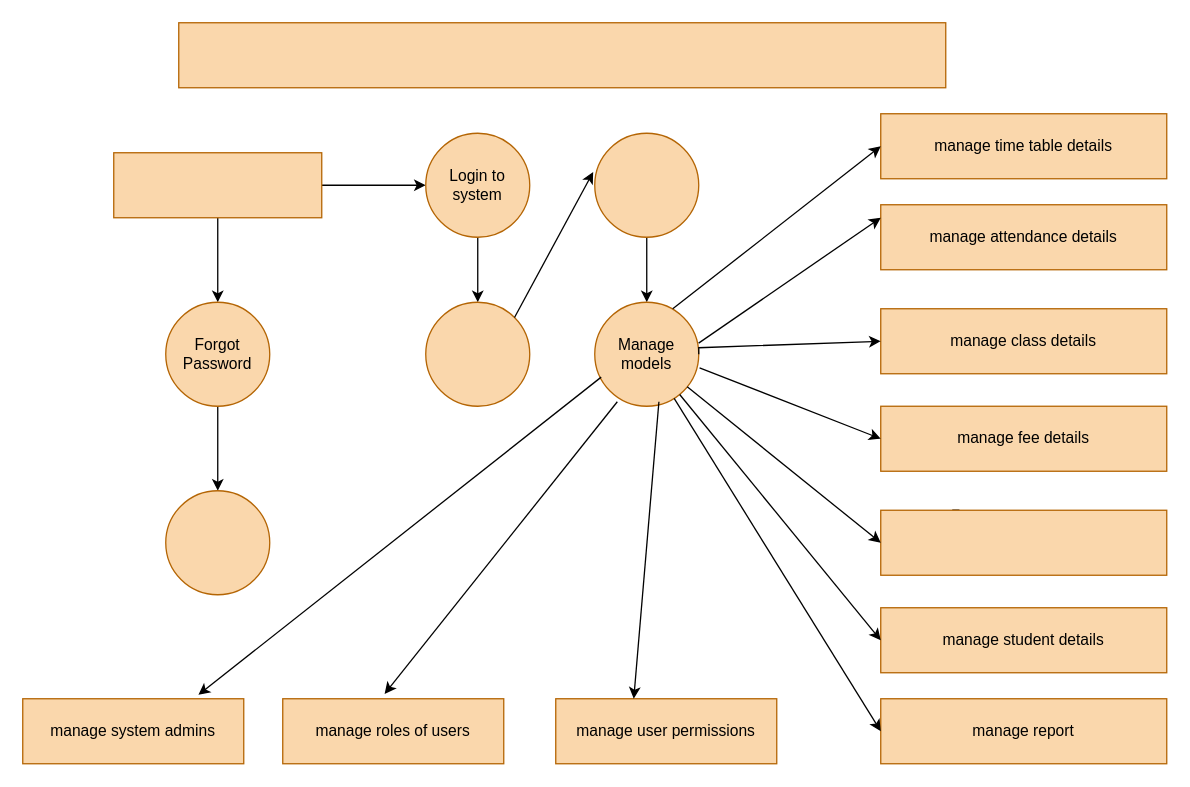
Image size: 1190x787. Some labels were removed from this diagram. Here are the shapes that lost their labels. From the top down, the centre of each, then its label:
[561,54]: STUDENT INFORMATION SYSTEM
[217,184]: ADMIN
[646,184]: Check roles of access
[477,353]: Check credentials
[217,542]: send email to users
[1023,542]: manage teacher details
